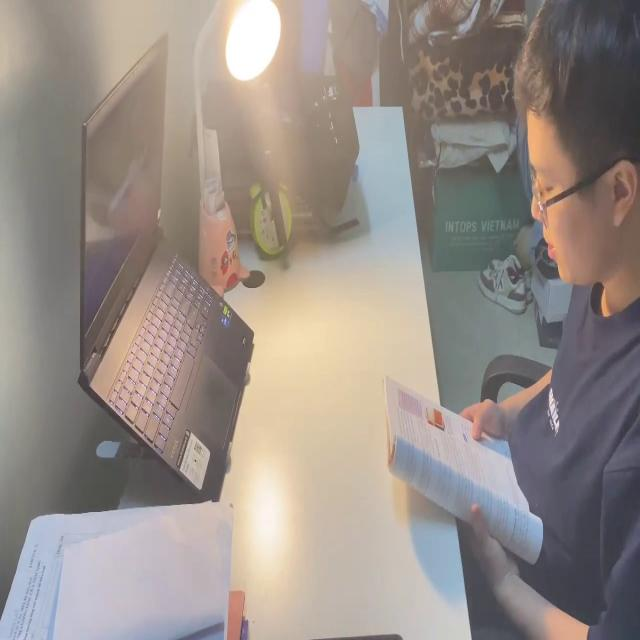book: (0, 499, 245, 640), (381, 371, 543, 573)
laptop: (77, 26, 256, 500)
student: (446, 0, 640, 640)
